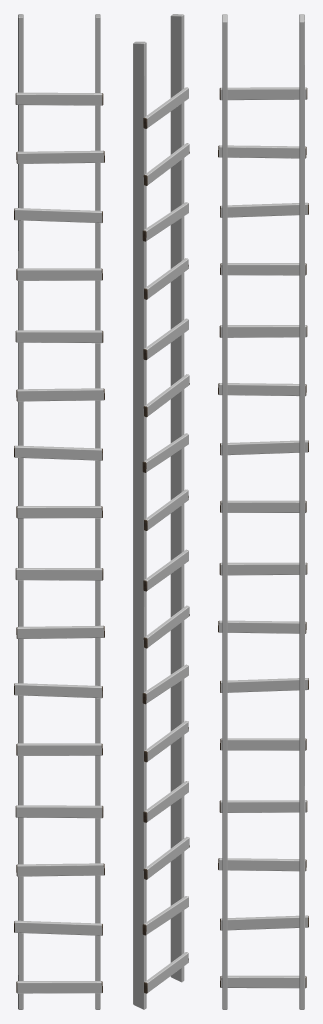
Rendered from SM_prop2_Ladder_6m.fbx.
3 renders of one model, left to right at view 1: azimuth 90°, elevation 25°; view 2: azimuth 150°, elevation 25°; view 3: azimuth 270°, elevation 25°, orthographic. The views are drawn at different scales.
Visible parts, largest first — view 1: SM_prop2_Ladder_6m_LOD0; view 2: SM_prop2_Ladder_6m_LOD0; view 3: SM_prop2_Ladder_6m_LOD0.
Part boxes in pixels (x1=…): SM_prop2_Ladder_6m_LOD0: x1=14, y1=14, x2=104, y2=1009; SM_prop2_Ladder_6m_LOD0: x1=133, y1=14, x2=189, y2=1009; SM_prop2_Ladder_6m_LOD0: x1=218, y1=14, x2=308, y2=1009.
Size of the model in its own units: 9.96 by 49.8 by 600.
